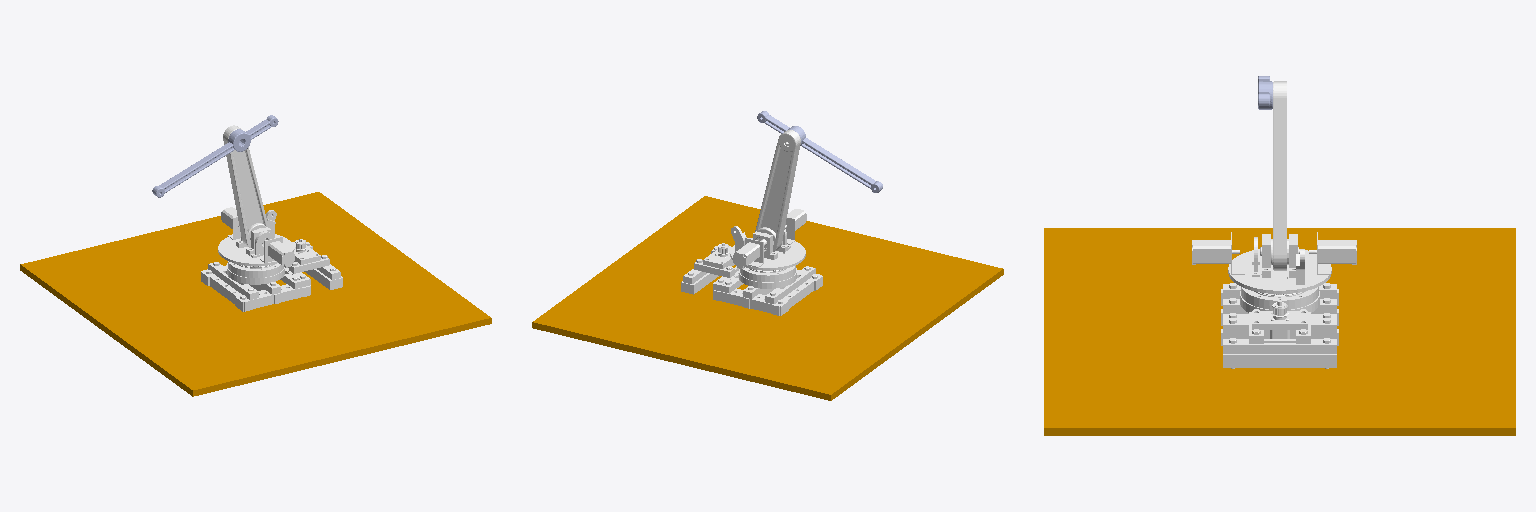
URDF robot description (mainarmy8):
<?xml version="1.0" encoding="utf-8"?>
<!-- This URDF was automatically created by SolidWorks to URDF Exporter! Originally created by [author] ([email redacted]) 
     Commit Version: 1.6.0-1-g15f4949  Build Version: 1.6.7594.29634
     For more information, please see http://wiki.ros.org/sw_urdf_exporter -->
<robot
  name="mainarmy8">

      <joint name="bottom_joint" type="fixed">
        <origin xyz="0 0 0" rpy="0 0 0" />
        <parent link="base_link"/>
        <child link="bottom_link"/>
    </joint>
    <link name="bottom_link">
        <visual>
              <origin xyz=" 0 0 -0.02"  rpy="0 0 0"/>
                  <geometry>
                       <box size="1 1 0.02" />
                  </geometry>
              
        </visual>
        <collision>
            <origin xyz=" 0 0 -0.02"  rpy="0 0 0"/>
            <geometry>
                <box size="1 1 0.02" />
            </geometry>
        </collision>
        
    </link>

<link name="dummy">
   </link>

  <link
    name="base_link">
    <inertial>
      <origin
        xyz="0.057303 -6.7869E-06 0.037387"
        rpy="0 0 0" />
      <mass
        value="3.7046" />
      <inertia
        ixx="0.0082729"
        ixy="4.7759E-07"
        ixz="-4.5778E-08"
        iyy="0.0043615"
        iyz="8.1073E-09"
        izz="0.011219" />
    </inertial>
    <visual>
      <origin
        xyz="0 0 0"
        rpy="0 0 0" />
      <geometry>
        <mesh
          filename="package://mainarmy8/meshes/base_link.STL" />
      </geometry>
      <material
        name="">
        <color
          rgba="1 1 1 1" />
      </material>
    </visual>
    <collision>
      <origin
        xyz="0 0 0"
        rpy="0 0 0" />
      <geometry>
        <mesh
          filename="package://mainarmy8/meshes/base_link.STL" />
      </geometry>
    </collision>
  </link>
  <joint name="dummy_joint" type="fixed">
     <parent link="dummy"/>
     <child link="base_link"/>
   </joint>
  <link
    name="link1">
    <inertial>
      <origin
        xyz="-0.0046086 -0.0028749 0.019352"
        rpy="0 0 0" />
      <mass
        value="0.89018" />
      <inertia
        ixx="0.001332"
        ixy="7.7642E-06"
        ixz="3.003E-06"
        iyy="0.0014537"
        iyz="2.4942E-06"
        izz="0.0025701" />
    </inertial>
    <visual>
      <origin
        xyz="0 0 0"
        rpy="0 0 0" />
      <geometry>
        <mesh
          filename="package://mainarmy8/meshes/link1.STL" />
      </geometry>
      <material
        name="">
        <color
          rgba="1 1 1 0.25" />
      </material>
    </visual>
    <collision>
      <origin
        xyz="0 0 0"
        rpy="0 0 0" />
      <geometry>
        <mesh
          filename="package://mainarmy8/meshes/link1.STL" />
      </geometry>
    </collision>
  </link>
  <joint
    name="joint1"
    type="continuous">
    <origin
      xyz="0 0 0.1245"
      rpy="0 0 1.6567" />
    <parent
      link="base_link" />
    <child
      link="link1" />
    <axis
      xyz="0 0 1" />
    <limit
      lower="-3.14"
      upper="3.14"
      effort="0"
      velocity="0" />
  </joint>
  <link
    name="link2">
    <inertial>
      <origin
        xyz="0.14733 0.00092603 -0.0065984"
        rpy="0 0 0" />
      <mass
        value="0.51936" />
      <inertia
        ixx="0.00031341"
        ixy="-3.9977E-05"
        ixz="0.00028478"
        iyy="0.0085796"
        iyz="-3.1468E-05"
        izz="0.0087995" />
    </inertial>
    <visual>
      <origin
        xyz="0 0 0"
        rpy="0 0 0" />
      <geometry>
        <mesh
          filename="package://mainarmy8/meshes/link2.STL" />
      </geometry>
      <material
        name="">
        <color
          rgba="1 1 1 1" />
      </material>
    </visual>
    <collision>
      <origin
        xyz="0 0 0"
        rpy="0 0 0" />
      <geometry>
        <mesh
          filename="package://mainarmy8/meshes/link2.STL" />
      </geometry>
    </collision>
  </link>
  <joint
    name="joint2"
    type="revolute">
    <origin
      xyz="0.0024908 -0.00021442 0.044"
      rpy="1.5708 -1.3538 1.3422" />
    <parent
      link="link1" />
    <child
      link="link2" />
    <axis
      xyz="0.030631 -0.13892 0.98983" />
    <limit
      lower="-0.6"
      upper="0.6"
      effort="0"
      velocity="0" />
  </joint>
  <link
    name="link3">
    <inertial>
      <origin
        xyz="0.064746 -8.9541E-09 -0.00042155"
        rpy="0 0 0" />
      <mass
        value="0.21135" />
      <inertia
        ixx="4.4368E-05"
        ixy="2.4125E-10"
        ixz="0.0001405"
        iyy="0.0030915"
        iyz="-1.6225E-11"
        izz="0.0030988" />
    </inertial>
    <visual>
      <origin
        xyz="0 0 0"
        rpy="0 0 0" />
      <geometry>
        <mesh
          filename="package://mainarmy8/meshes/link3.STL" />
      </geometry>
      <material
        name="">
        <color
          rgba="0.79216 0.81961 0.93333 1" />
      </material>
    </visual>
    <collision>
      <origin
        xyz="0 0 0"
        rpy="0 0 0" />
      <geometry>
        <mesh
          filename="package://mainarmy8/meshes/link3.STL" />
      </geometry>
    </collision>
  </link>
  <joint
    name="joint3"
    type="revolute">
    <origin
      xyz="0.33885 0.0059397 -0.042322"
      rpy="3.0927 0.18568 -1.7043" />
    <parent
      link="link2" />
    <child
      link="link3" />
    <axis
      xyz="0.051432 0 0.99868" />
    <limit
      lower="0"
      upper="1.4"
      effort="0"
      velocity="0" />
  </joint>
     <link name="grasping_frame"/>

    <joint name="grasping_frame_joint" type="fixed">
      <parent link="link3"/>
      <child link="grasping_frame"/>
      <origin xyz="0.29 0.0 -0.033" rpy="0 0 0"/>
    </joint>
</robot>

--- Render facts (derived) ---
The picture shows the robot from 3 angles, left to right: view 1: azimuth 30°, elevation 25°; view 2: azimuth 150°, elevation 25°; view 3: azimuth 270°, elevation 25°; orthographic projection.
Robot: mainarmy8 — 7 links, 6 joints (2 revolute, 1 continuous, 3 fixed); root link dummy; default pose: every joint at zero.
Links seen in each view (by area): view 1: bottom_link, base_link, link1, link2, link3; view 2: bottom_link, base_link, link2, link1, link3; view 3: bottom_link, base_link, link1, link2.
Link boxes in pixels (bbox=[...]): bottom_link: bbox=[20, 192, 491, 396]; base_link: bbox=[201, 239, 342, 311]; link1: bbox=[218, 207, 294, 267]; link2: bbox=[223, 125, 268, 247]; link3: bbox=[152, 115, 278, 197]; bottom_link: bbox=[532, 196, 1003, 400]; base_link: bbox=[681, 243, 822, 315]; link2: bbox=[755, 130, 800, 251]; link1: bbox=[730, 209, 806, 270]; link3: bbox=[757, 111, 882, 192]; bottom_link: bbox=[1044, 228, 1515, 435]; base_link: bbox=[1221, 283, 1338, 368]; link1: bbox=[1192, 232, 1356, 293]; link2: bbox=[1273, 81, 1288, 270].
Bounding box of the posed robot: 1 × 1 × 0.5842 m (x, y, z).
Meshes: 4 distinct files referenced, 4 mesh visuals loaded (4 binary STL).
